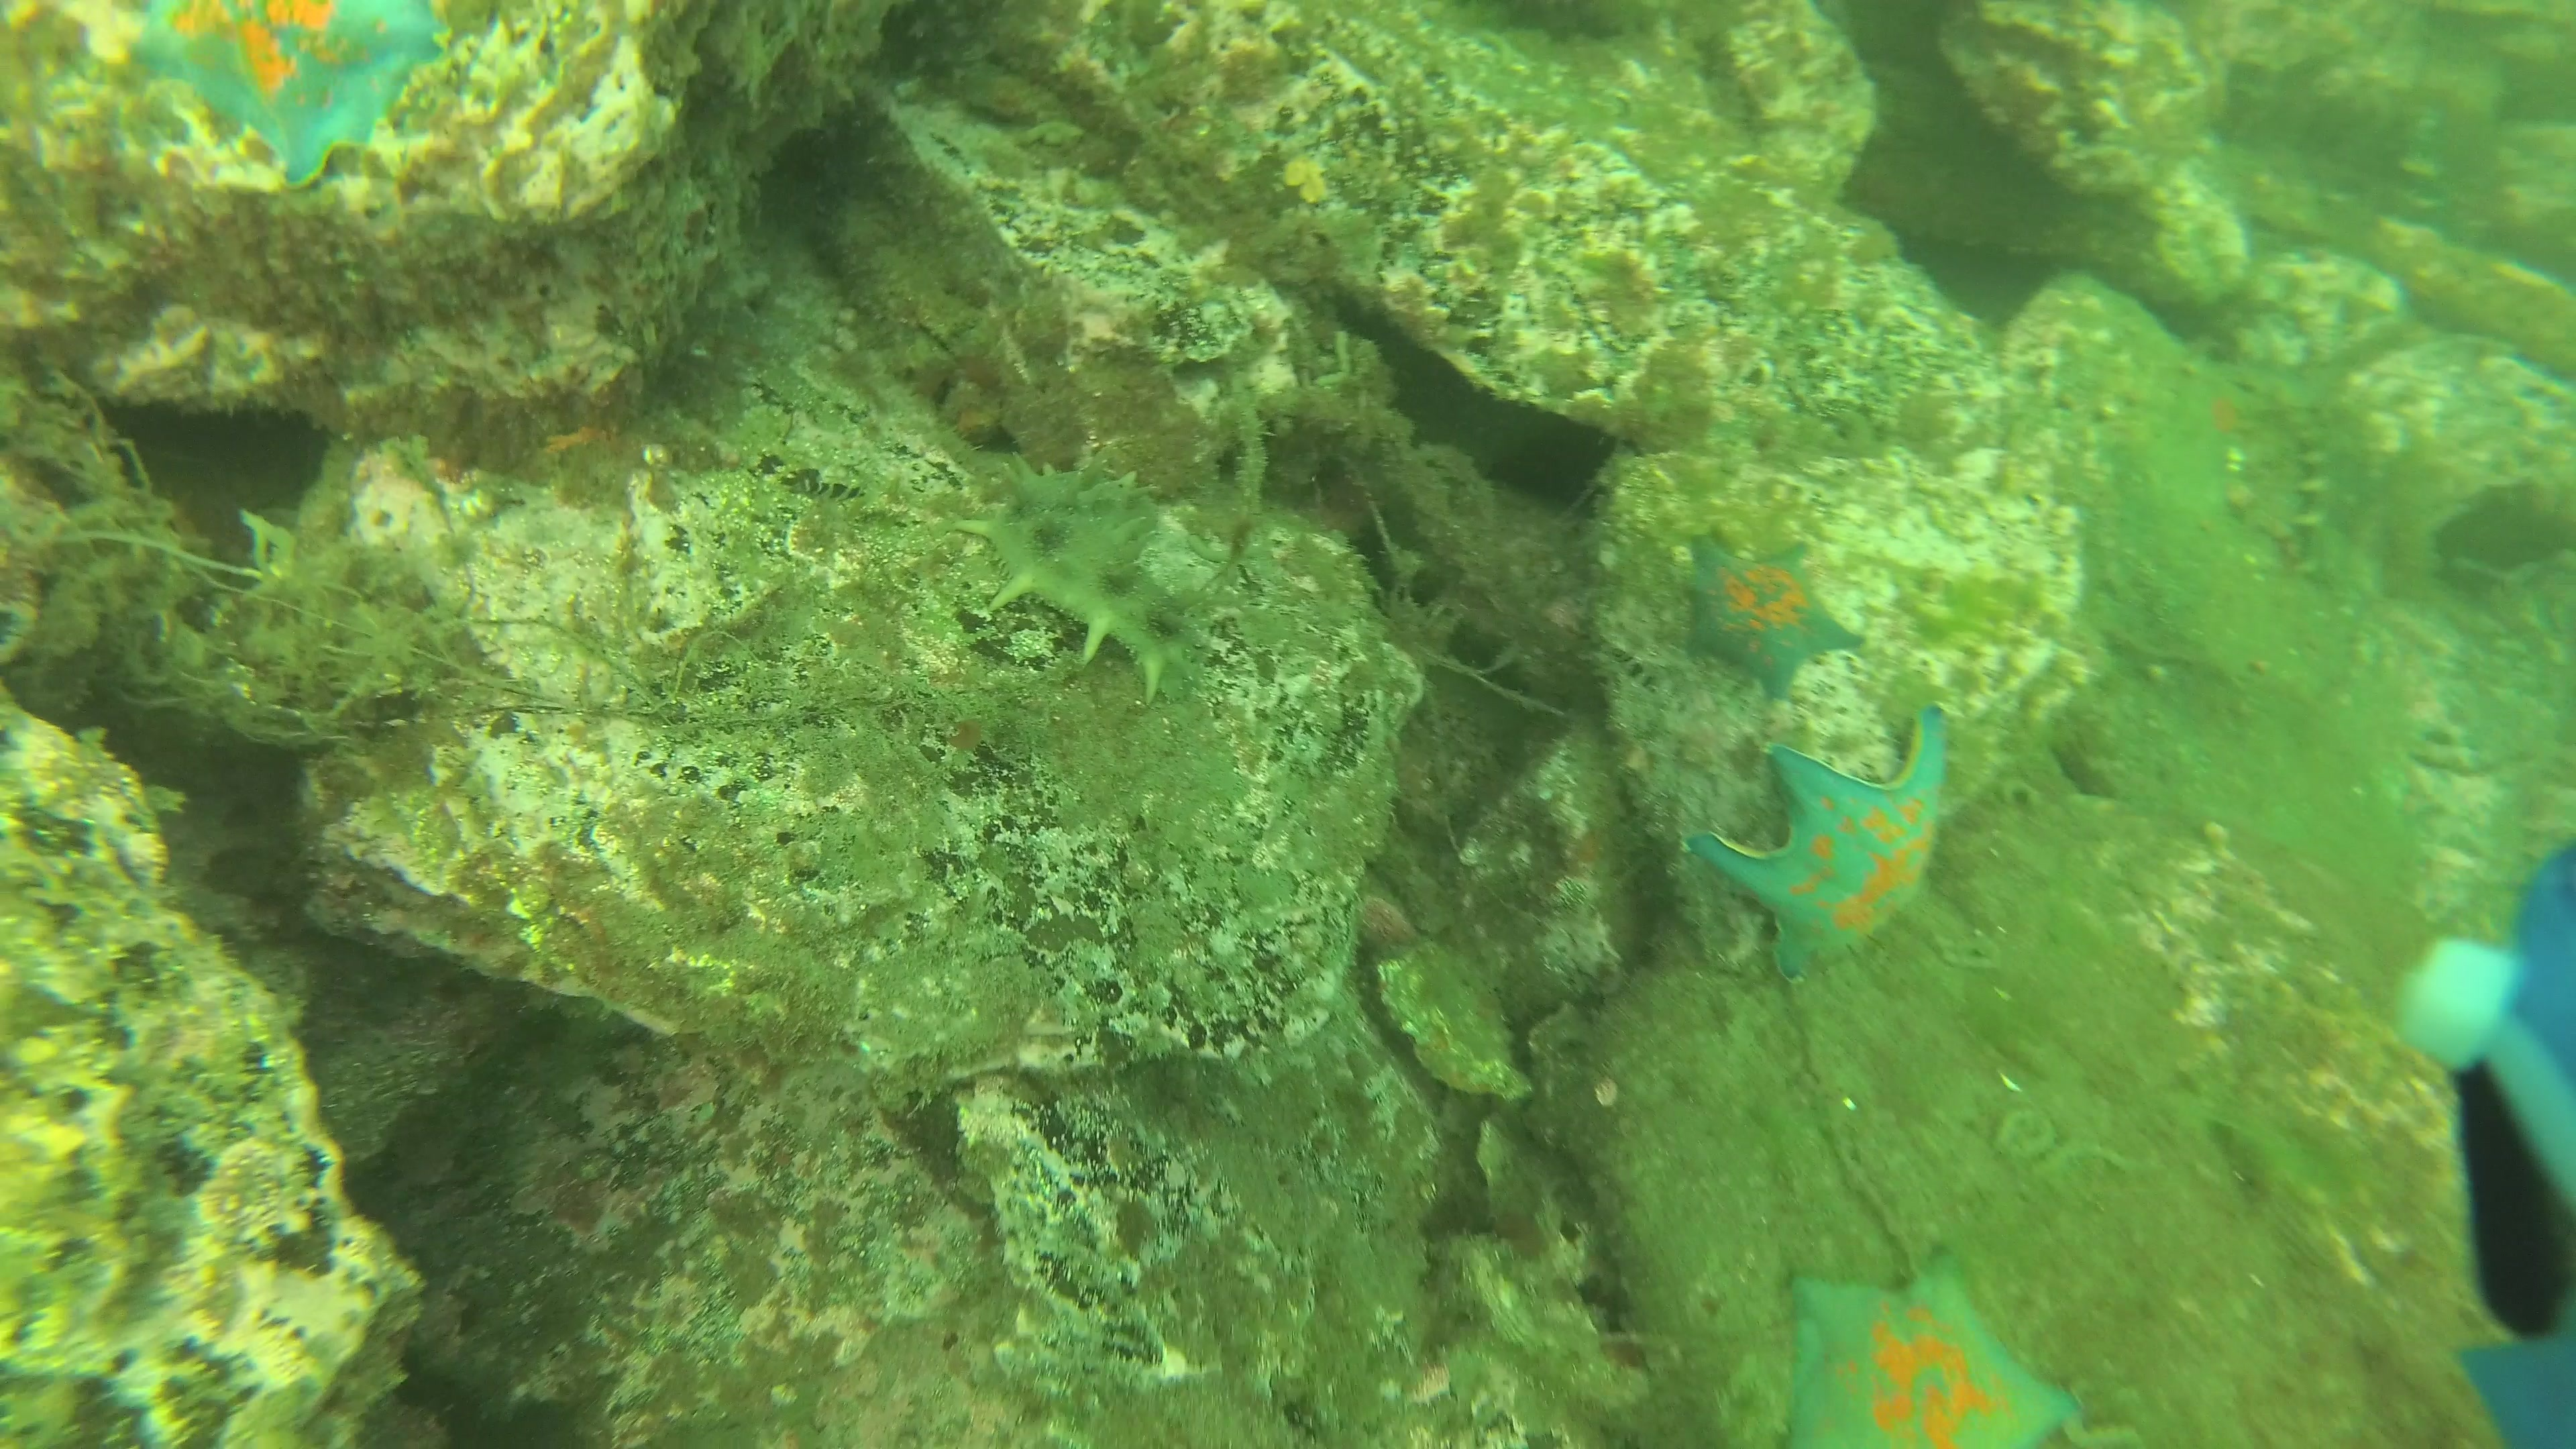holothurian: (962, 451, 1223, 708), (2284, 387, 2408, 610)
starfish: (1683, 695, 1955, 982), (122, 2, 460, 196), (1776, 1253, 2089, 1449), (1668, 524, 1870, 708)
